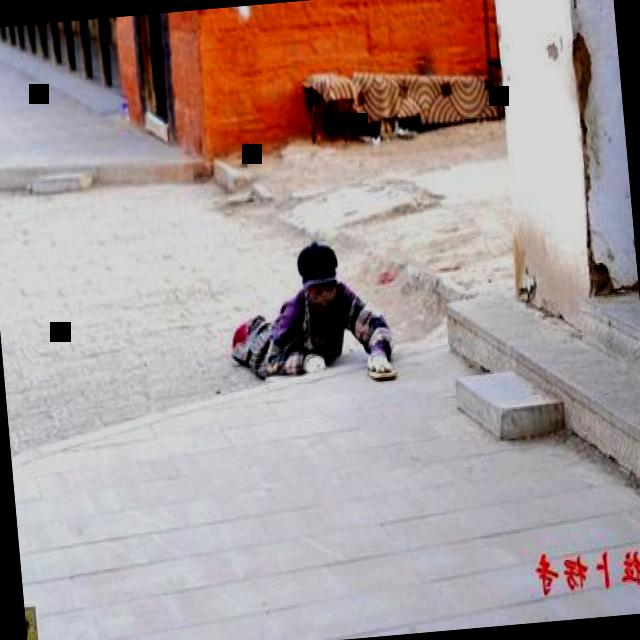Fall-Detected: (216, 222, 410, 392)
